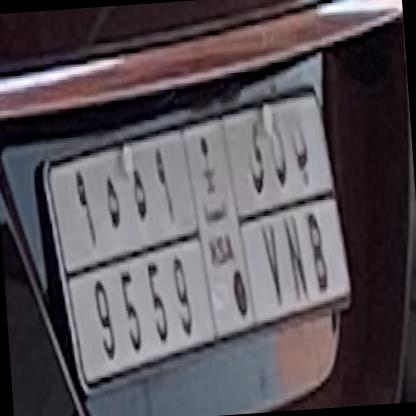english: (52, 208, 352, 369)
